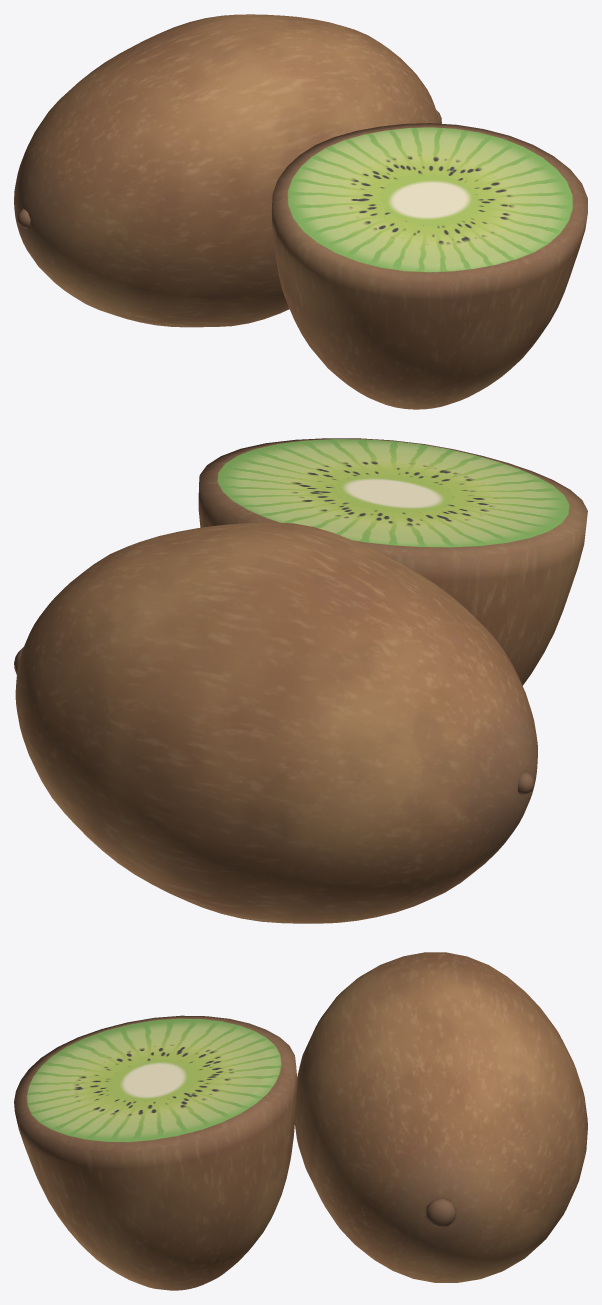
Rendered from kiwi.glb.
The picture shows the model from 3 angles, top to bottom: view 1: azimuth 30°, elevation 25°; view 2: azimuth 150°, elevation 25°; view 3: azimuth 270°, elevation 25°; orthographic projection. The views are drawn at different scales.
Visible parts, largest first — view 1: kiwi_body; view 2: kiwi_body; view 3: kiwi_body.
Part boxes in pixels (bbox=[...]): kiwi_body: bbox=[14, 14, 587, 409]; kiwi_body: bbox=[14, 438, 587, 923]; kiwi_body: bbox=[14, 952, 587, 1290].
Size of the model in its own units: 0.0772 by 0.0507 by 0.0946.
1 material, 1 textured.
